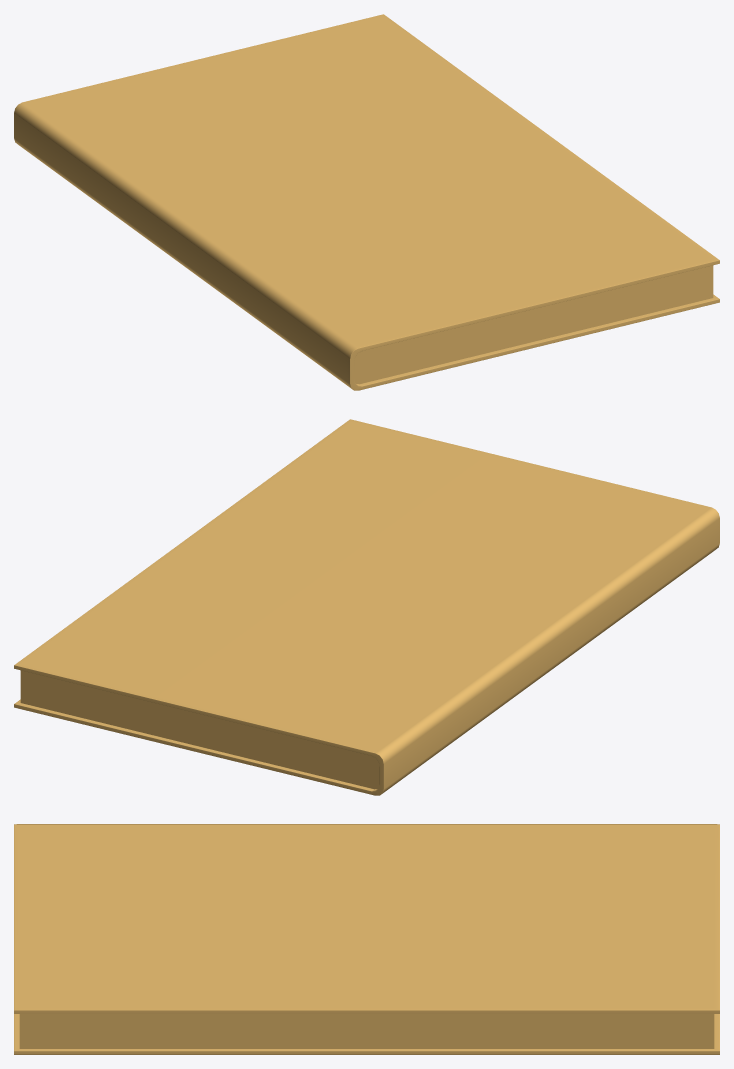
The model's file is book.glb.
3 views of the same model, one above another, from view 1: azimuth 30°, elevation 25°; view 2: azimuth 150°, elevation 25°; view 3: azimuth 270°, elevation 25° (orthographic). The views are drawn at different scales.
Parts seen in each view (by area): view 1: uploads_files_2619168_BOOK+FINAL; view 2: uploads_files_2619168_BOOK+FINAL; view 3: uploads_files_2619168_BOOK+FINAL.
Boxes of the visible parts, x1,y1,x2,y2 form: uploads_files_2619168_BOOK+FINAL: [14, 14, 719, 390]; uploads_files_2619168_BOOK+FINAL: [14, 419, 719, 795]; uploads_files_2619168_BOOK+FINAL: [14, 824, 719, 1054].
Size of the model in its own units: 9.33 by 1.03 by 14.68.
